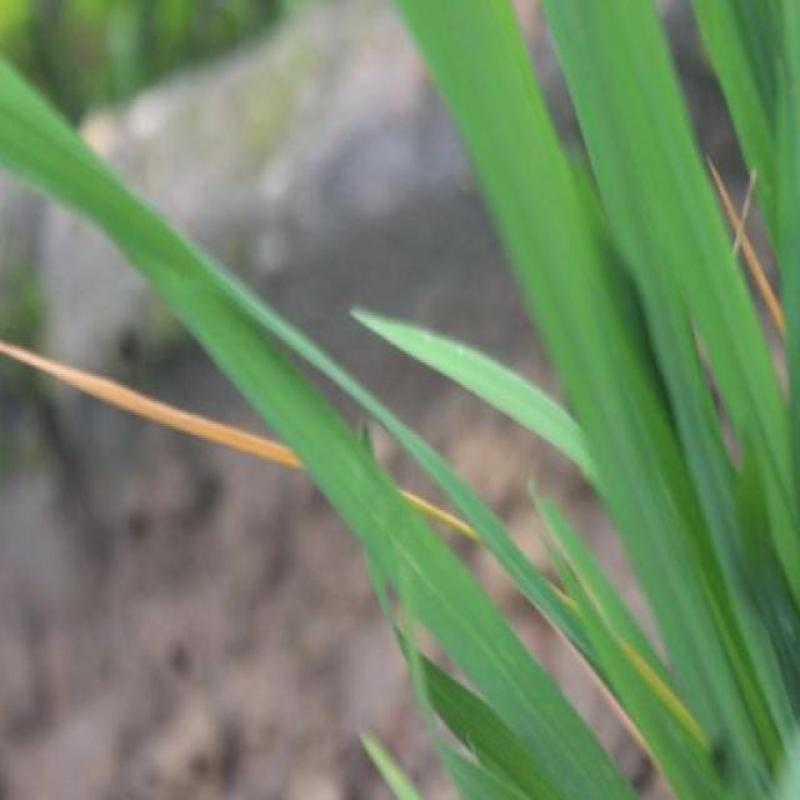Rice Tungro: (0, 344, 279, 504)
